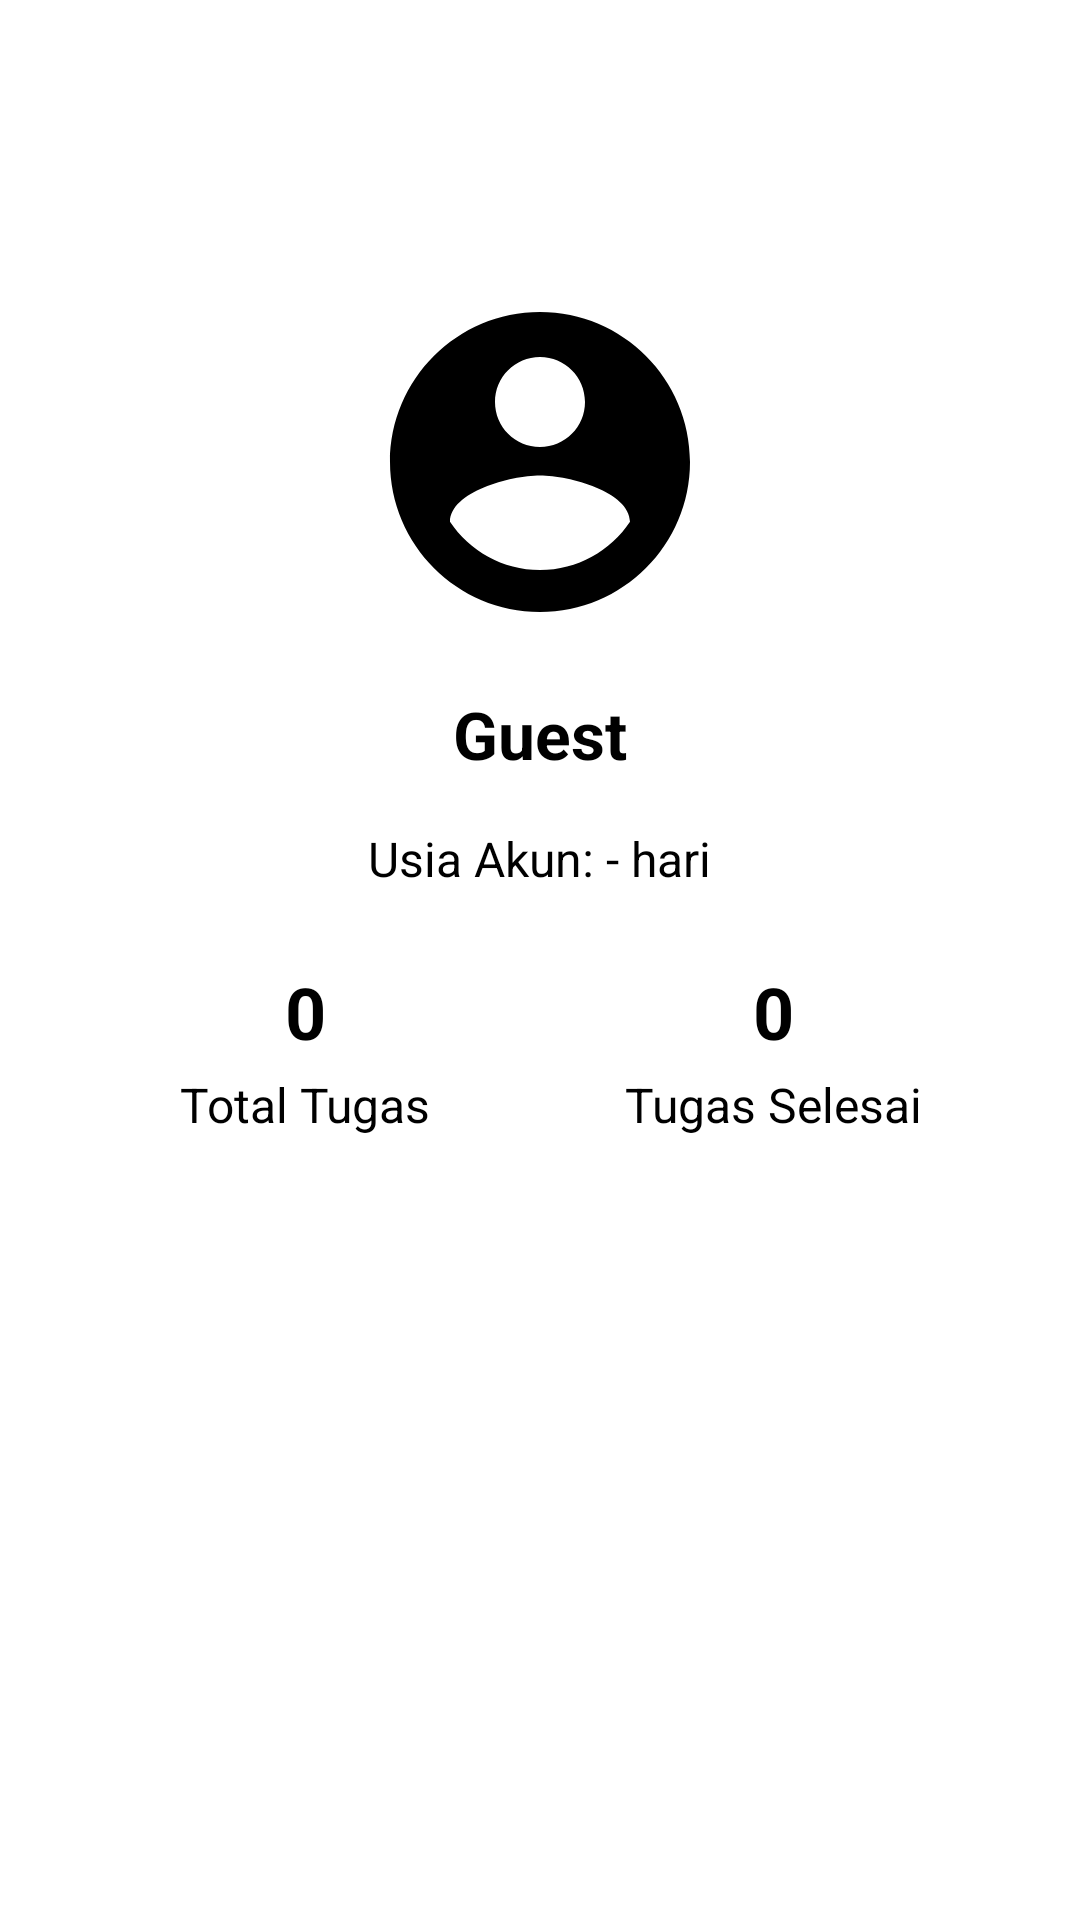

Where icons sit on this 1080x1920 app screen, as [left=x1, top=y1, right=x2, bottom=y2]:
account: [left=390, top=312, right=690, bottom=612]
